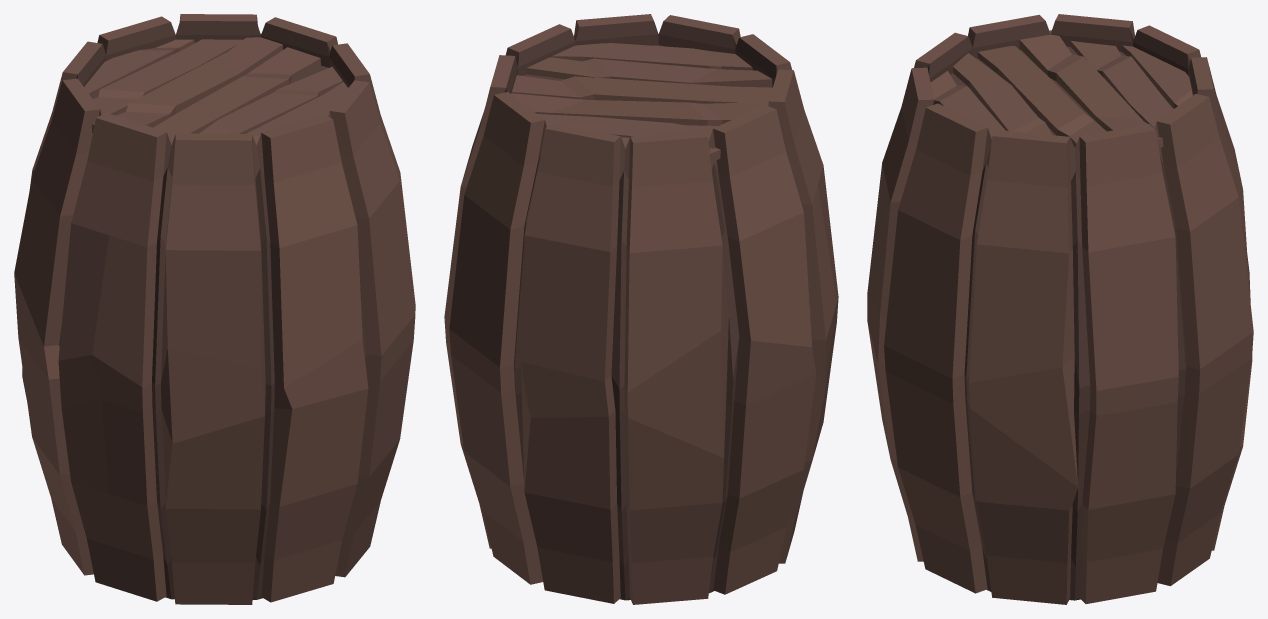
Rendered from Barrel2.glb.
The picture shows the model from 3 angles, left to right: view 1: azimuth 30°, elevation 25°; view 2: azimuth 150°, elevation 25°; view 3: azimuth 270°, elevation 25°; orthographic projection.
Visible parts, largest first — view 1: Barrel_Cylinder.029; view 2: Barrel_Cylinder.029; view 3: Barrel_Cylinder.029.
Part boxes in pixels (x1,y1,x2,y2): Barrel_Cylinder.029: (14, 14, 415, 604); Barrel_Cylinder.029: (444, 14, 838, 604); Barrel_Cylinder.029: (867, 14, 1253, 604).
Bounding box in the file's own units: 1.03 × 1.35 × 1.02.
